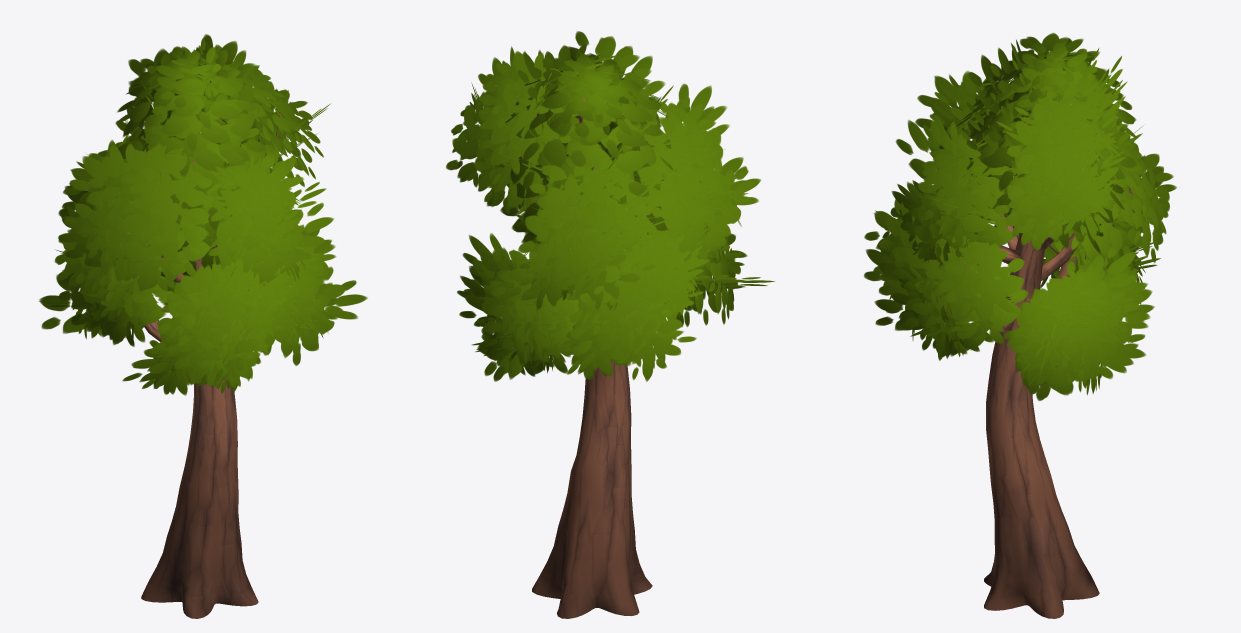
Rendered from tree.glb.
3 renders of one model, left to right at view 1: azimuth 30°, elevation 25°; view 2: azimuth 150°, elevation 25°; view 3: azimuth 270°, elevation 25°, orthographic. The views are drawn at different scales.
Visible parts, largest first — view 1: CommonTree_1; view 2: CommonTree_1; view 3: CommonTree_1.
Part boxes in pixels (x1,y1,x2,y2): CommonTree_1: (39, 34, 367, 618); CommonTree_1: (446, 31, 775, 618); CommonTree_1: (864, 33, 1176, 618).
Bounding box in the file's own units: 4.31 × 7.26 × 4.58.
2 materials, 2 textured.
